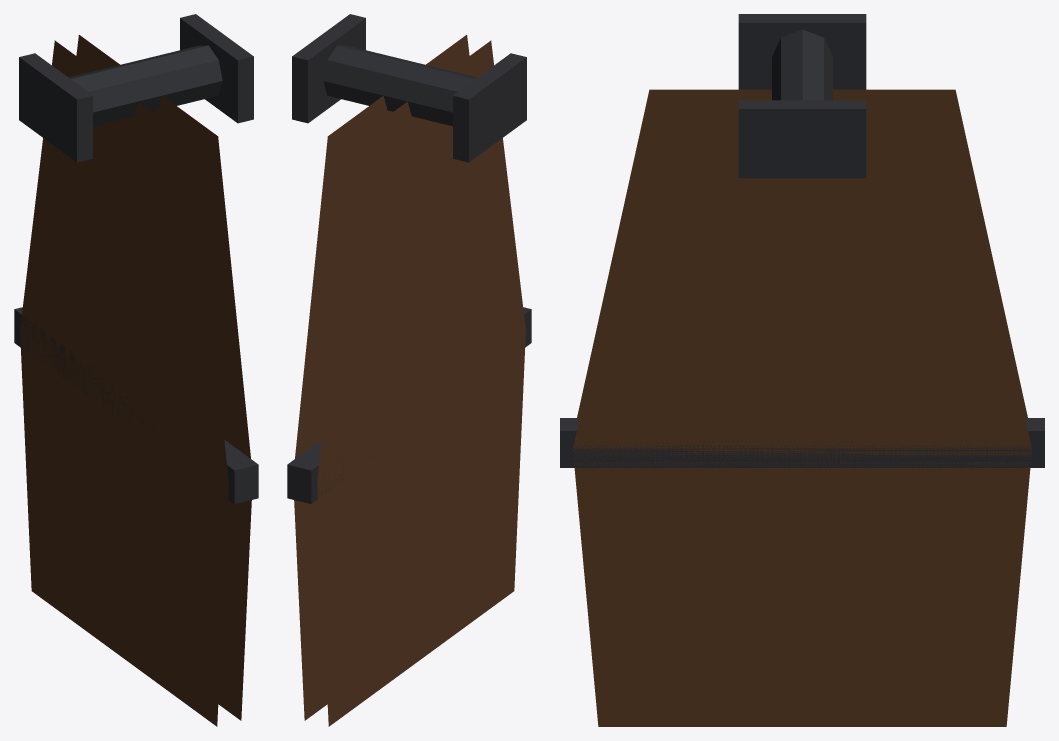
The model's file is amelioration--ralentisseurs-lateraux.glb.
The picture shows the model from 3 angles, left to right: view 1: azimuth 30°, elevation 25°; view 2: azimuth 150°, elevation 25°; view 3: azimuth 270°, elevation 25°; orthographic projection. The views are drawn at different scales.
Visible parts, largest first — view 1: aileron; view 2: aileron; view 3: aileron.
Boxes of the visible parts, <box> form: aileron: <box>14,14,258,726</box>; aileron: <box>287,14,531,726</box>; aileron: <box>560,14,1044,726</box>.
Size of the model in its own units: 0.88 by 2.85 by 1.9.
